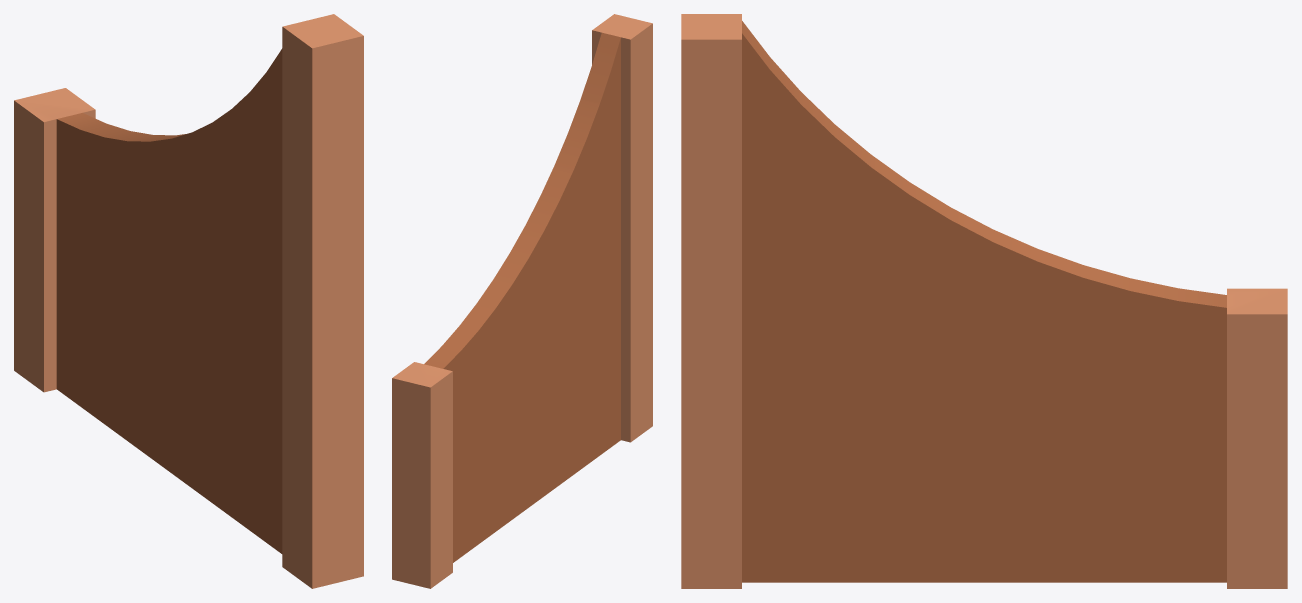
Rendered from wallWoodSlope.fbx.
3 views of the same model, side by side, from view 1: azimuth 30°, elevation 25°; view 2: azimuth 150°, elevation 25°; view 3: azimuth 270°, elevation 25° (orthographic). The views are drawn at different scales.
Parts seen in each view (by area): view 1: wallWoodSlope; view 2: wallWoodSlope; view 3: wallWoodSlope.
Part boxes in pixels (x1=…): wallWoodSlope: x1=14, y1=14, x2=363, y2=588; wallWoodSlope: x1=392, y1=14, x2=652, y2=588; wallWoodSlope: x1=681, y1=14, x2=1287, y2=588.
Size of the model in its own units: 1 by 10 by 10.
